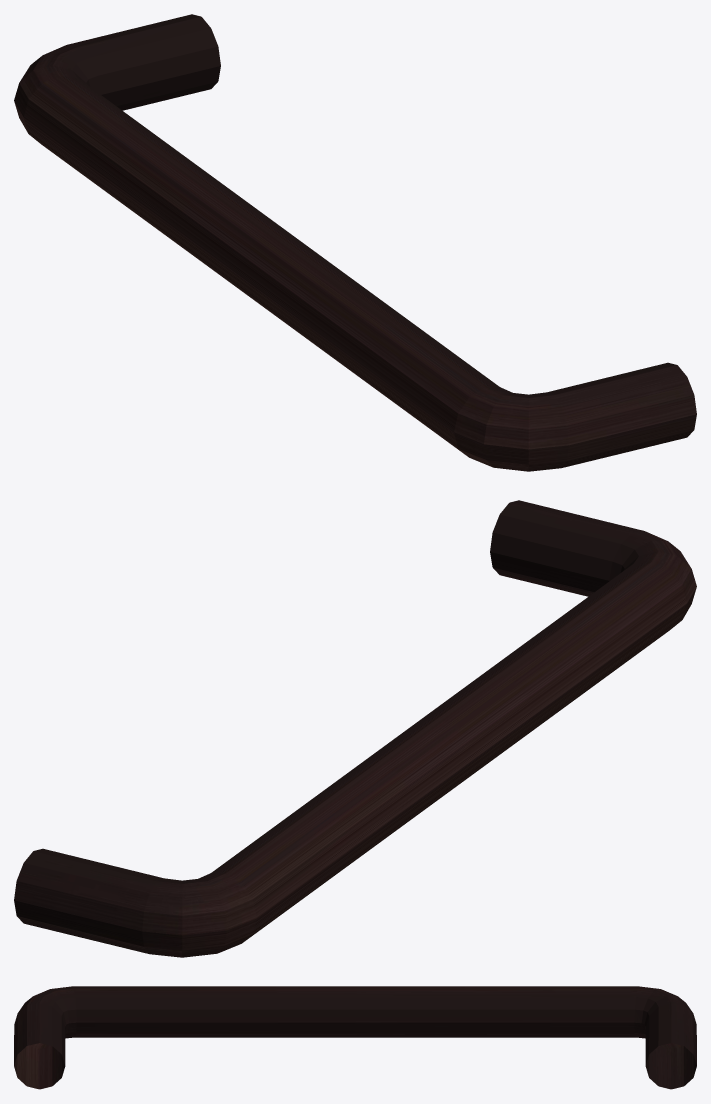
Rendered from ManijaMueble2.obj.
The picture shows the model from 3 angles, top to bottom: view 1: azimuth 30°, elevation 25°; view 2: azimuth 150°, elevation 25°; view 3: azimuth 270°, elevation 25°; orthographic projection. The views are drawn at different scales.
Parts seen in each view (by area): view 1: Manija_Mueble.002; view 2: Manija_Mueble.002; view 3: Manija_Mueble.002.
Part boxes in pixels (x1=…): Manija_Mueble.002: x1=14, y1=14, x2=696, y2=471; Manija_Mueble.002: x1=14, y1=500, x2=696, y2=957; Manija_Mueble.002: x1=14, y1=986, x2=696, y2=1089.
Size of the model in its own units: 0.0972 by 0.0324 by 0.4314.
